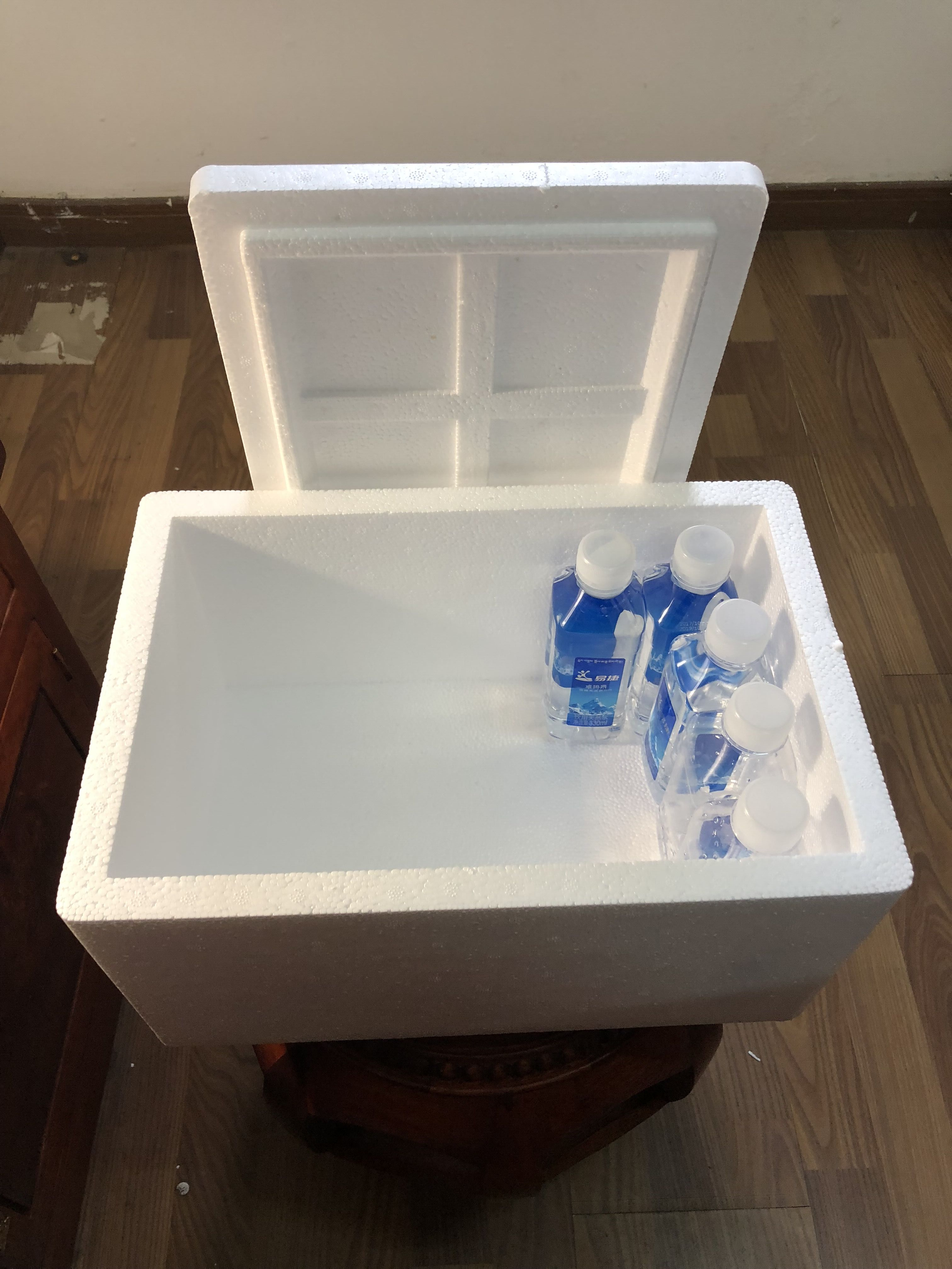Boxes: (58, 163, 910, 1042)
